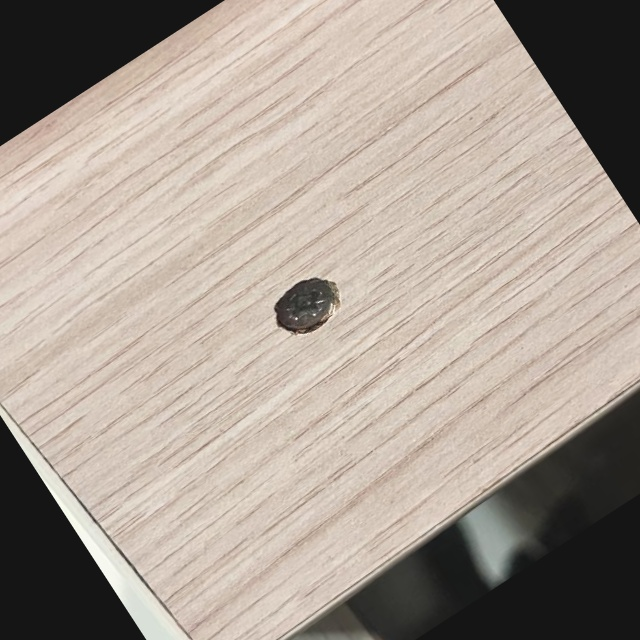pozidriv: (266, 269, 343, 341)
